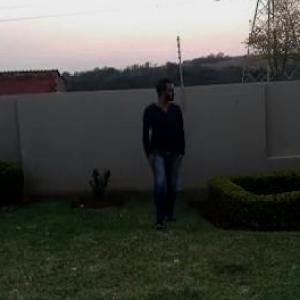follow: (141, 68, 194, 254)
